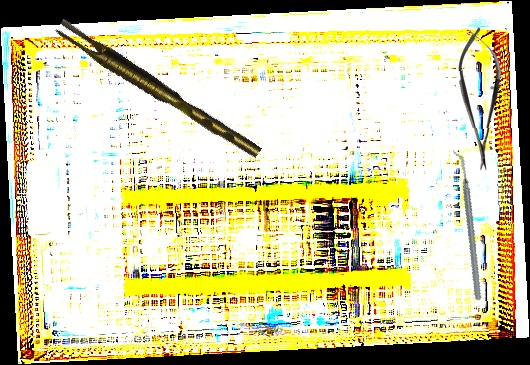Chopper: (413, 149, 522, 302)
Micro Scissor: (456, 26, 504, 172)
Tissue Forceps: (54, 12, 262, 169)
